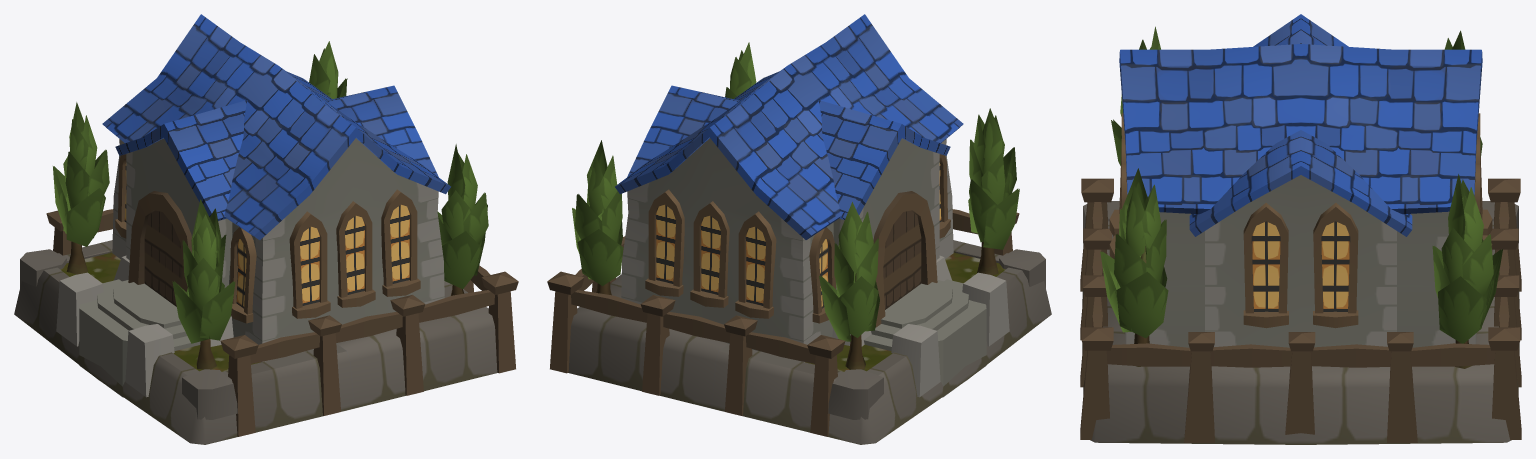
File: Library.FBX
3 views of the same model, side by side, from view 1: azimuth 30°, elevation 25°; view 2: azimuth 150°, elevation 25°; view 3: azimuth 270°, elevation 25° (orthographic). The views are drawn at different scales.
Visible parts, largest first — view 1: Library; view 2: Library; view 3: Library.
Boxes of the visible parts, x1,y1,x2,y2 form: Library: (14, 14, 518, 444); Library: (547, 14, 1051, 444); Library: (1080, 14, 1521, 444).
Bounding box in the file's own units: 664 × 523 × 657.
